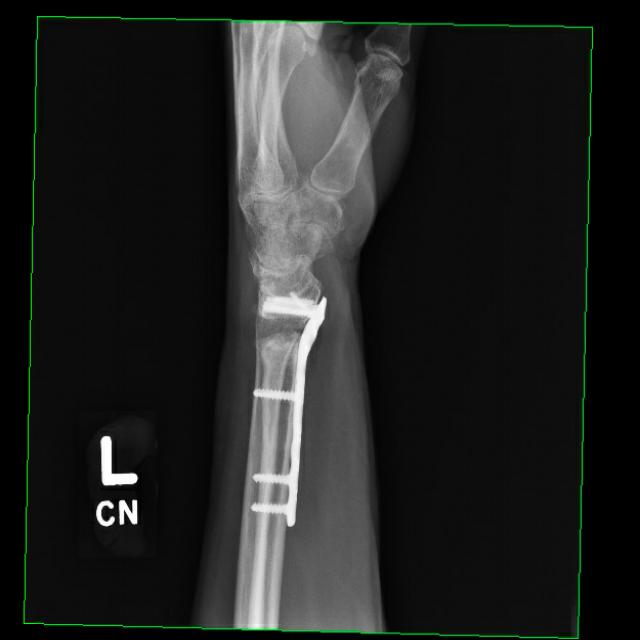x-ray: (252, 284, 338, 532)
